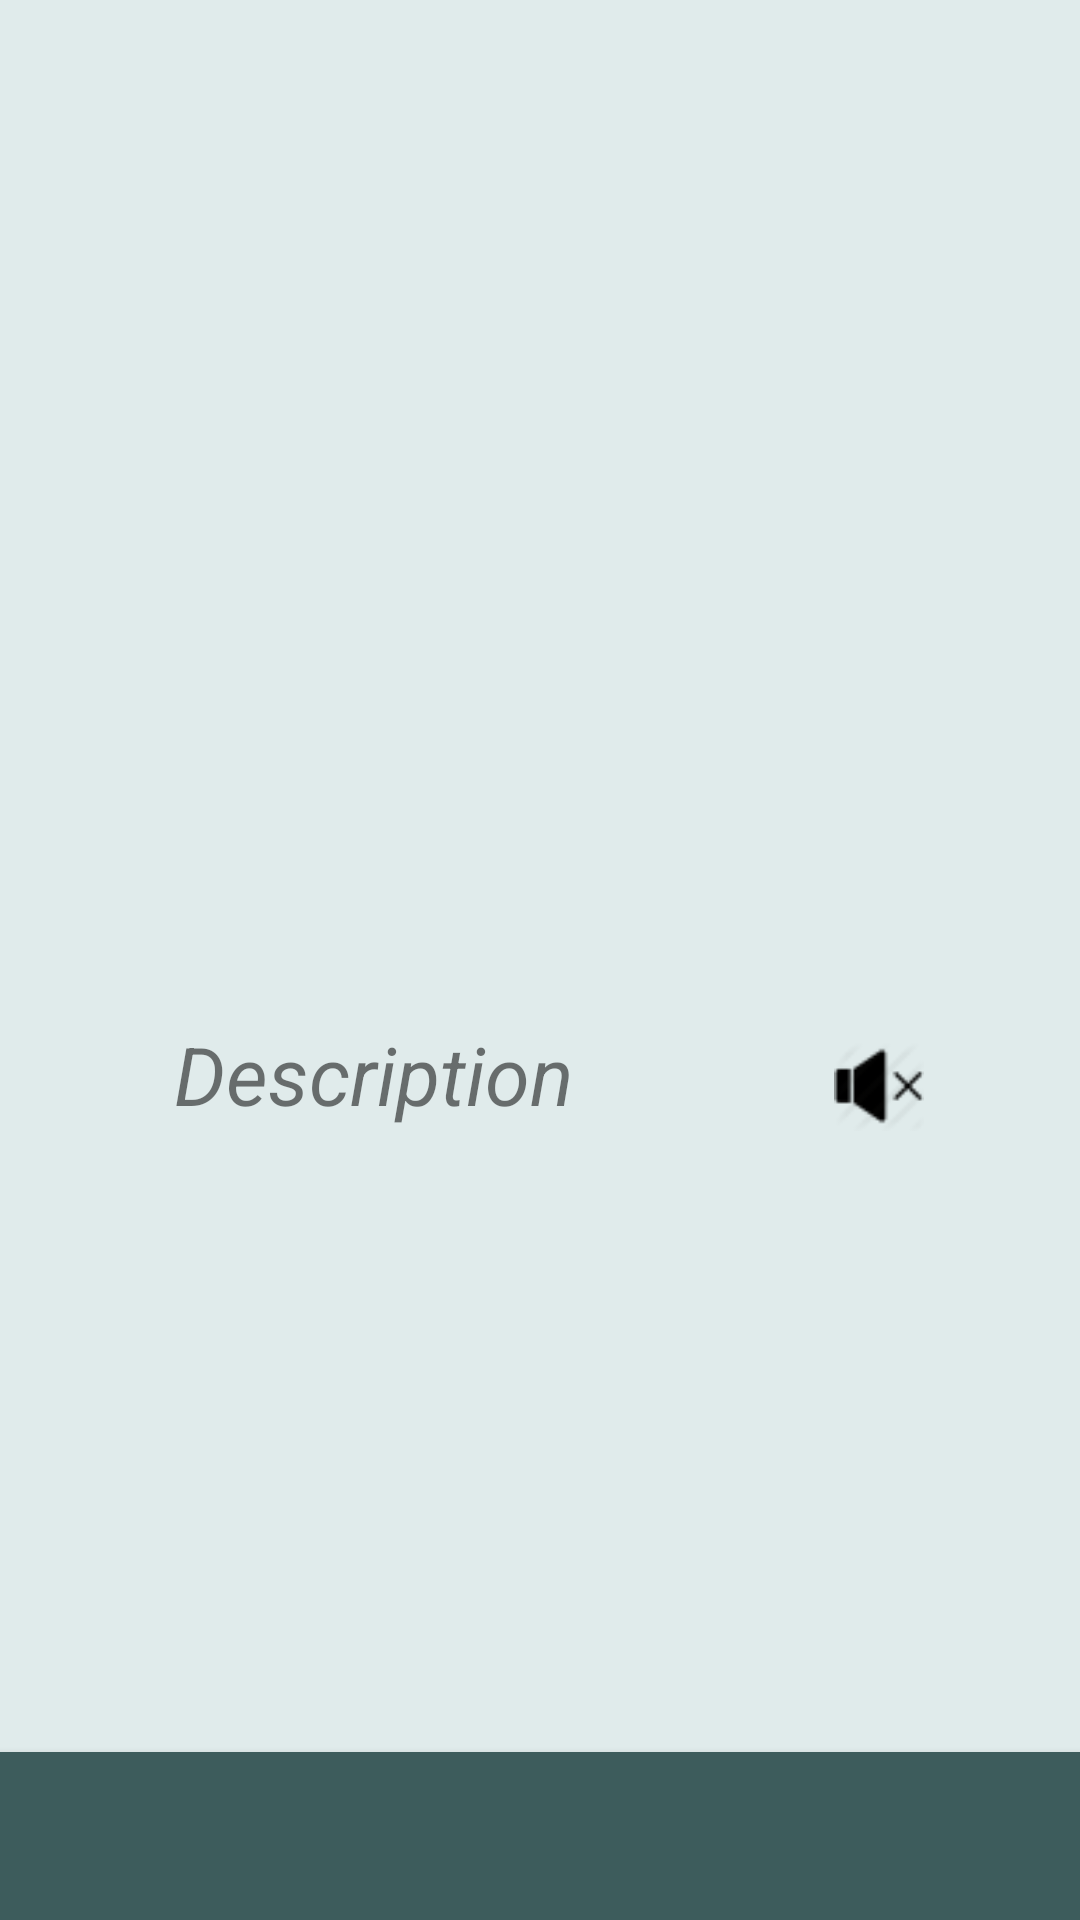

Where icons sit on this 1080 × 1920 app screen, as region(x1, y1, x2, y2):
mute: region(834, 1048, 924, 1123)
